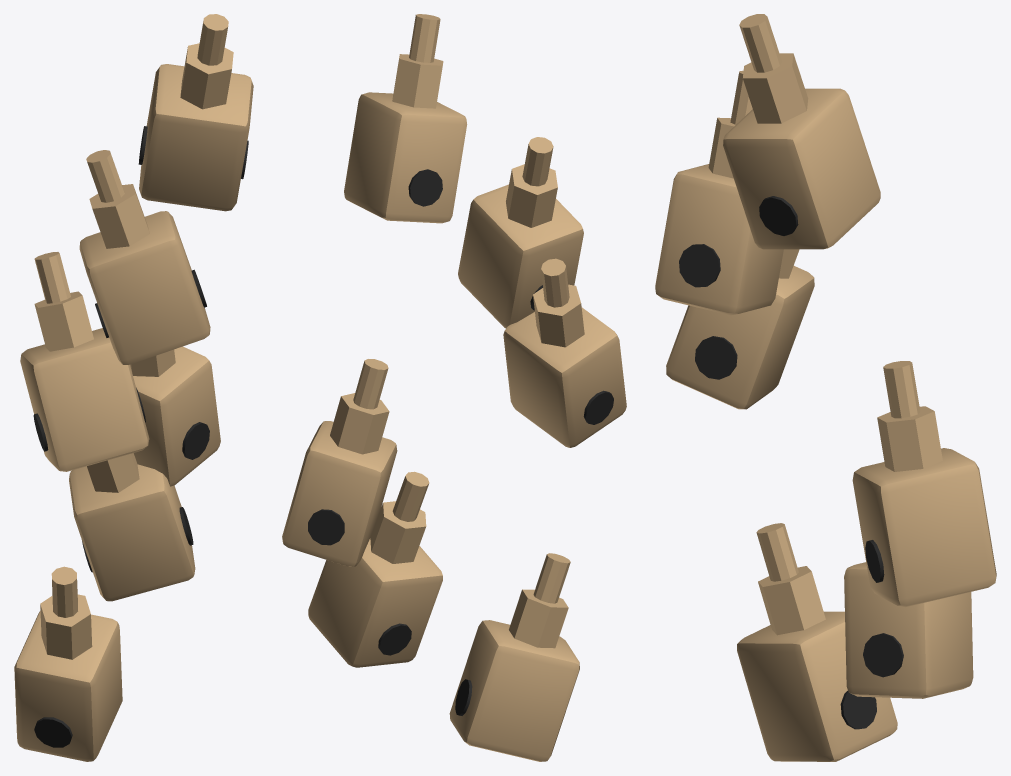
File: ELE-SPD-004_anim.glb
The picture shows the model from 3 angles, left to right: view 1: azimuth 30°, elevation 25°; view 2: azimuth 150°, elevation 25°; view 3: azimuth 270°, elevation 25°; orthographic projection. The views are drawn at different scales.
Visible parts, largest first — view 1: ELE-SPD-004_anim4, ELE-SPD-004_anim3, ELE-SPD-004_anim5, ELE-SPD-004_anim0, ELE-SPD-004_anim1, ELE-SPD-004_anim2; view 2: ELE-SPD-004_anim0, ELE-SPD-004_anim5, ELE-SPD-004_anim1, ELE-SPD-004_anim3, ELE-SPD-004_anim2, ELE-SPD-004_anim4; view 3: ELE-SPD-004_anim5, ELE-SPD-004_anim2, ELE-SPD-004_anim0, ELE-SPD-004_anim4, ELE-SPD-004_anim1, ELE-SPD-004_anim3.
Boxes of the visible parts, x1=… form: ELE-SPD-004_anim4: x1=79, y1=150, x2=210, y2=364; ELE-SPD-004_anim3: x1=20, y1=252, x2=149, y2=471; ELE-SPD-004_anim5: x1=138, y1=14, x2=253, y2=211; ELE-SPD-004_anim0: x1=14, y1=566, x2=122, y2=761; ELE-SPD-004_anim1: x1=69, y1=453, x2=195, y2=601; ELE-SPD-004_anim2: x1=130, y1=346, x2=220, y2=486; ELE-SPD-004_anim0: x1=449, y1=553, x2=579, y2=761; ELE-SPD-004_anim5: x1=344, y1=14, x2=467, y2=223; ELE-SPD-004_anim1: x1=308, y1=471, x2=442, y2=667; ELE-SPD-004_anim3: x1=503, y1=258, x2=626, y2=447; ELE-SPD-004_anim2: x1=282, y1=359, x2=397, y2=566; ELE-SPD-004_anim4: x1=458, y1=137, x2=583, y2=328; ELE-SPD-004_anim5: x1=723, y1=14, x2=880, y2=249; ELE-SPD-004_anim2: x1=852, y1=361, x2=996, y2=607; ELE-SPD-004_anim0: x1=737, y1=523, x2=897, y2=761; ELE-SPD-004_anim4: x1=655, y1=70, x2=783, y2=315; ELE-SPD-004_anim1: x1=844, y1=562, x2=973, y2=698; ELE-SPD-004_anim3: x1=666, y1=249, x2=814, y2=409.
Bounding box in the file's own units: 0.0915 × 0.2416 × 0.0927.
